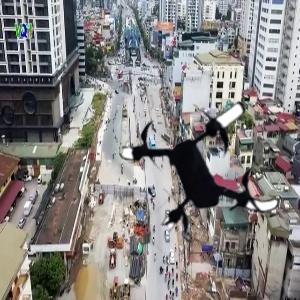drone: (124, 81, 294, 251)
